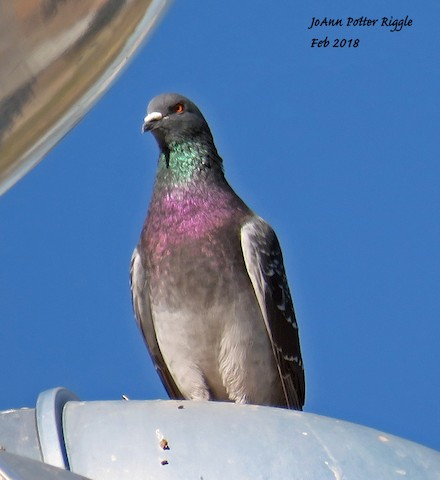pigeon: (120, 82, 318, 418)
